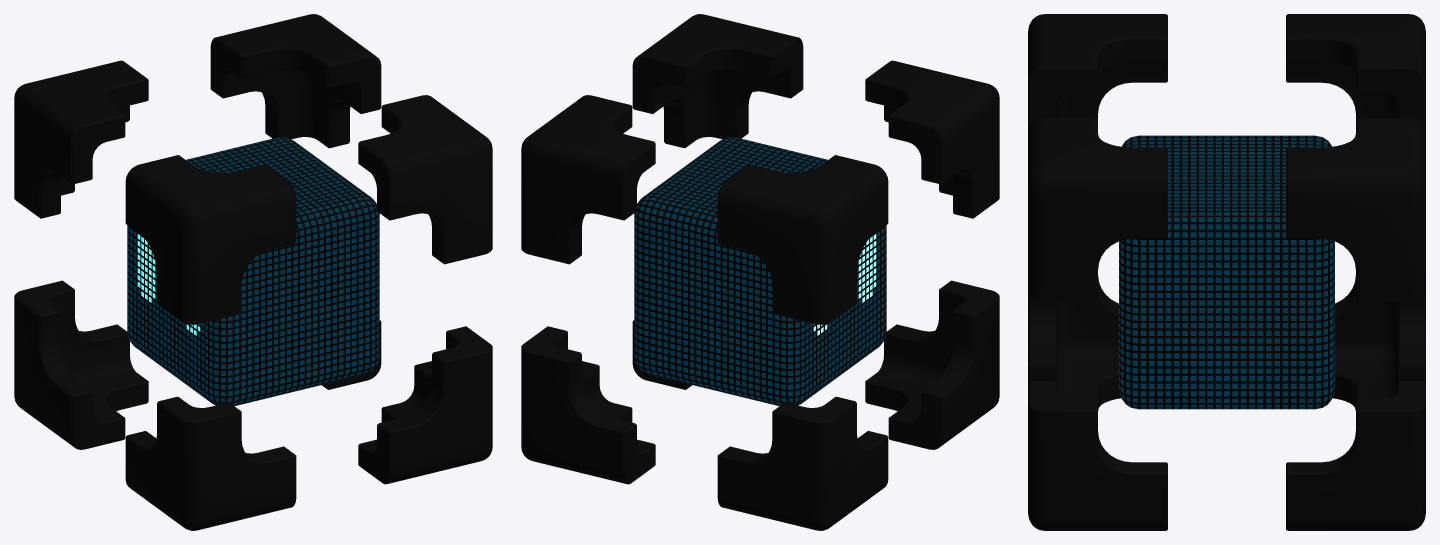
Rendered from cube_robot_2.fbx.
3 views of the same model, side by side, from view 1: azimuth 30°, elevation 25°; view 2: azimuth 150°, elevation 25°; view 3: azimuth 270°, elevation 25° (orthographic). The views are drawn at different scales.
Visible parts, largest first — view 1: Cube, seperated.004, seperated.007, seperated.002, seperated.005, seperated, seperated.003, seperated.006, seperated.001; view 2: Cube, seperated.003, seperated, seperated.005, seperated.002, seperated.007, seperated.001, seperated.004, seperated.006; view 3: Cube, seperated.002, seperated.005, seperated.001, seperated.006, seperated.003, seperated.004, seperated, seperated.007.
Part boxes in pixels (x1,y1,x2,y2): Cube: [127, 137, 379, 406]; seperated.004: [125, 155, 296, 324]; seperated.007: [125, 396, 296, 530]; seperated.002: [210, 14, 381, 148]; seperated.005: [358, 95, 492, 264]; seperated: [14, 280, 148, 449]; seperated.003: [14, 60, 148, 218]; seperated.006: [358, 326, 492, 484]; seperated.001: [322, 320, 381, 389]; Cube: [634, 137, 886, 406]; seperated.003: [717, 155, 888, 324]; seperated: [717, 396, 888, 530]; seperated.005: [632, 14, 803, 148]; seperated.002: [521, 95, 655, 264]; seperated.007: [865, 280, 999, 449]; seperated.001: [521, 326, 655, 484]; seperated.004: [865, 60, 999, 218]; seperated.006: [632, 320, 691, 389]; Cube: [1119, 135, 1334, 409]; seperated.002: [1286, 118, 1425, 302]; seperated.005: [1028, 118, 1167, 302]; seperated.001: [1286, 381, 1425, 530]; seperated.006: [1028, 381, 1167, 530]; seperated.003: [1286, 14, 1425, 132]; seperated.004: [1028, 14, 1167, 132]; seperated: [1332, 275, 1425, 410]; seperated.007: [1028, 275, 1121, 410].
Bounding box in the file's own units: 85.21 × 85.21 × 85.21.
